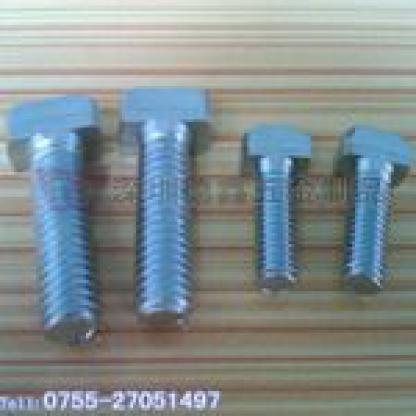FOD: (111, 80, 219, 328), (3, 90, 105, 345), (332, 124, 414, 298), (236, 121, 316, 295)
